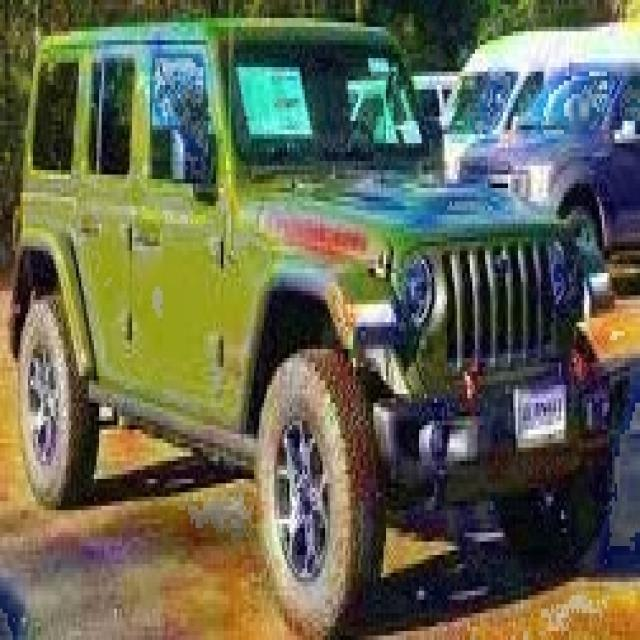green: (13, 20, 627, 638)
